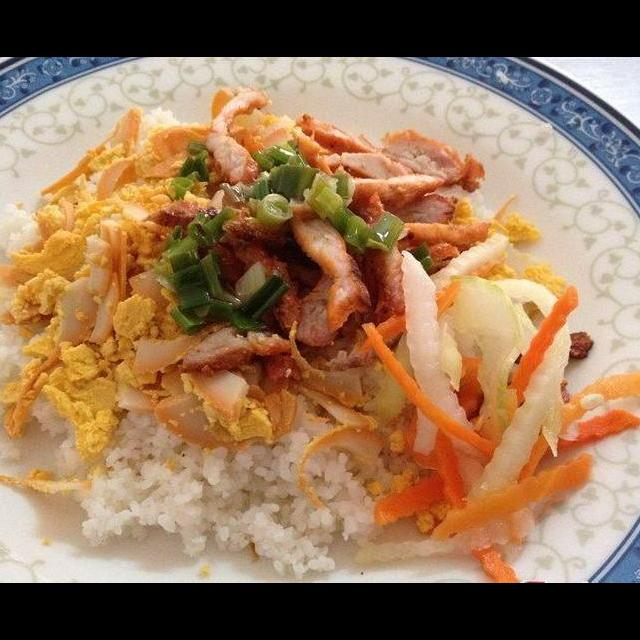com: (70, 400, 392, 578)
com suon trung: (0, 101, 639, 583)
dua chua: (350, 229, 640, 583)
suon: (177, 209, 417, 392), (285, 109, 497, 278), (156, 85, 319, 249)
trung: (0, 105, 227, 332), (0, 255, 217, 465), (131, 314, 303, 456)
